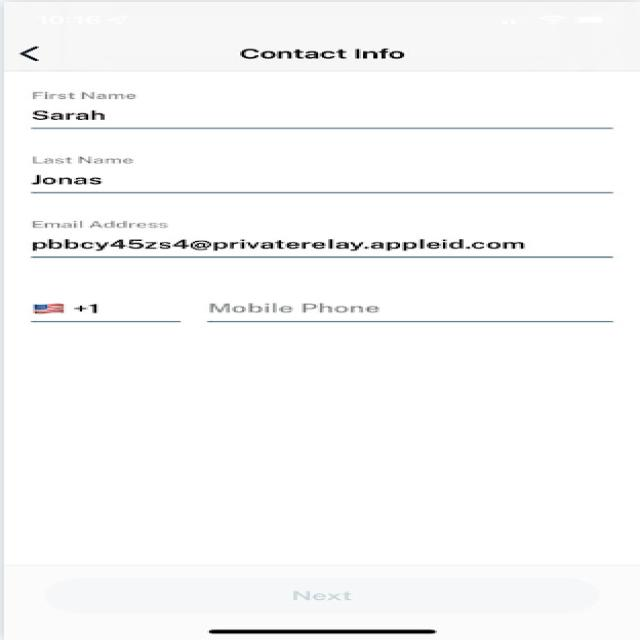icon button: (7, 37, 87, 68)
input: (15, 202, 624, 266), (12, 76, 619, 138), (12, 271, 626, 329), (12, 142, 624, 198)
spacer: (15, 339, 629, 558)
text: (214, 41, 434, 62)
